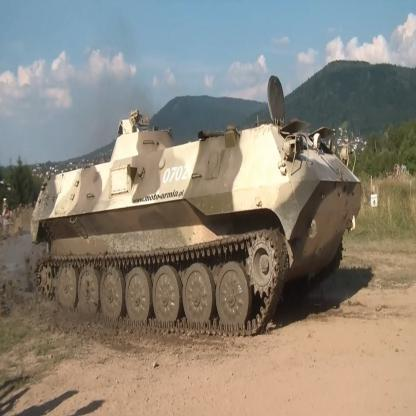MIL_IFV: (29, 72, 364, 330)
